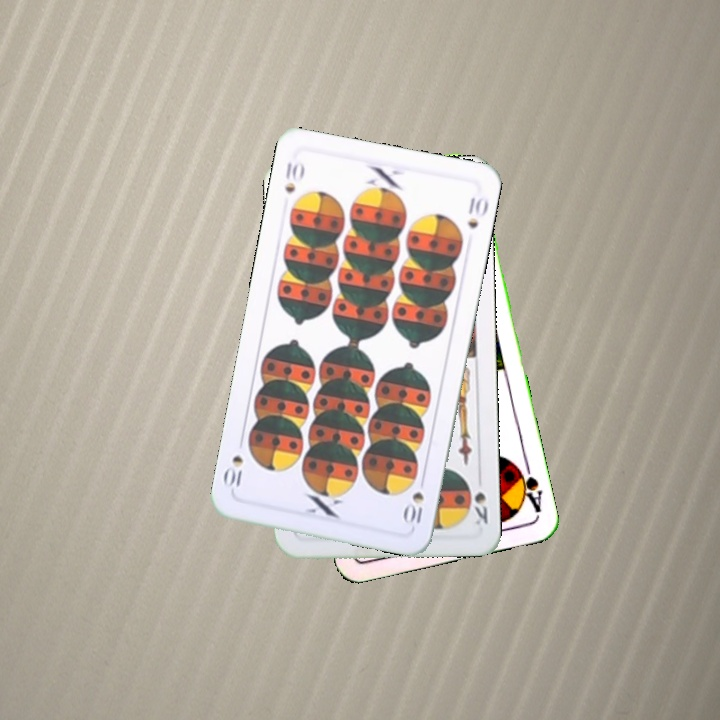S10: (401, 472, 428, 530), (280, 157, 307, 195)
SA: (510, 457, 545, 515)
SK: (470, 470, 490, 528)
